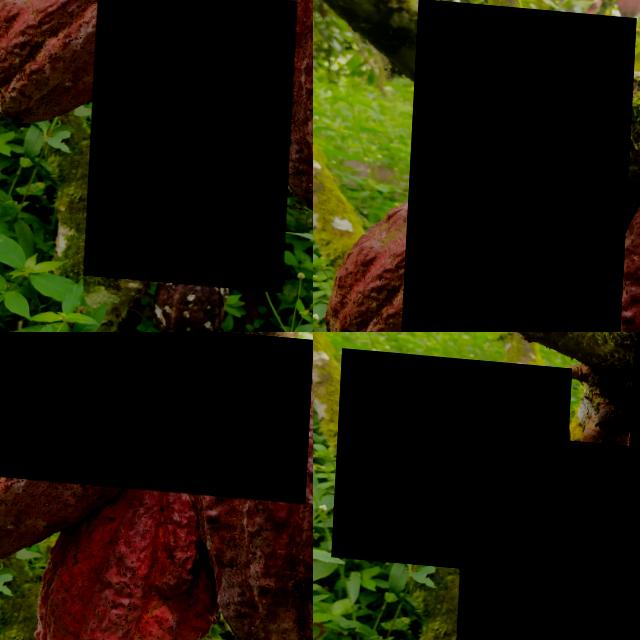Monilia: (403, 0, 637, 332), (0, 332, 313, 495)
Sana: (90, 0, 300, 285), (336, 346, 574, 571), (459, 427, 640, 640)
